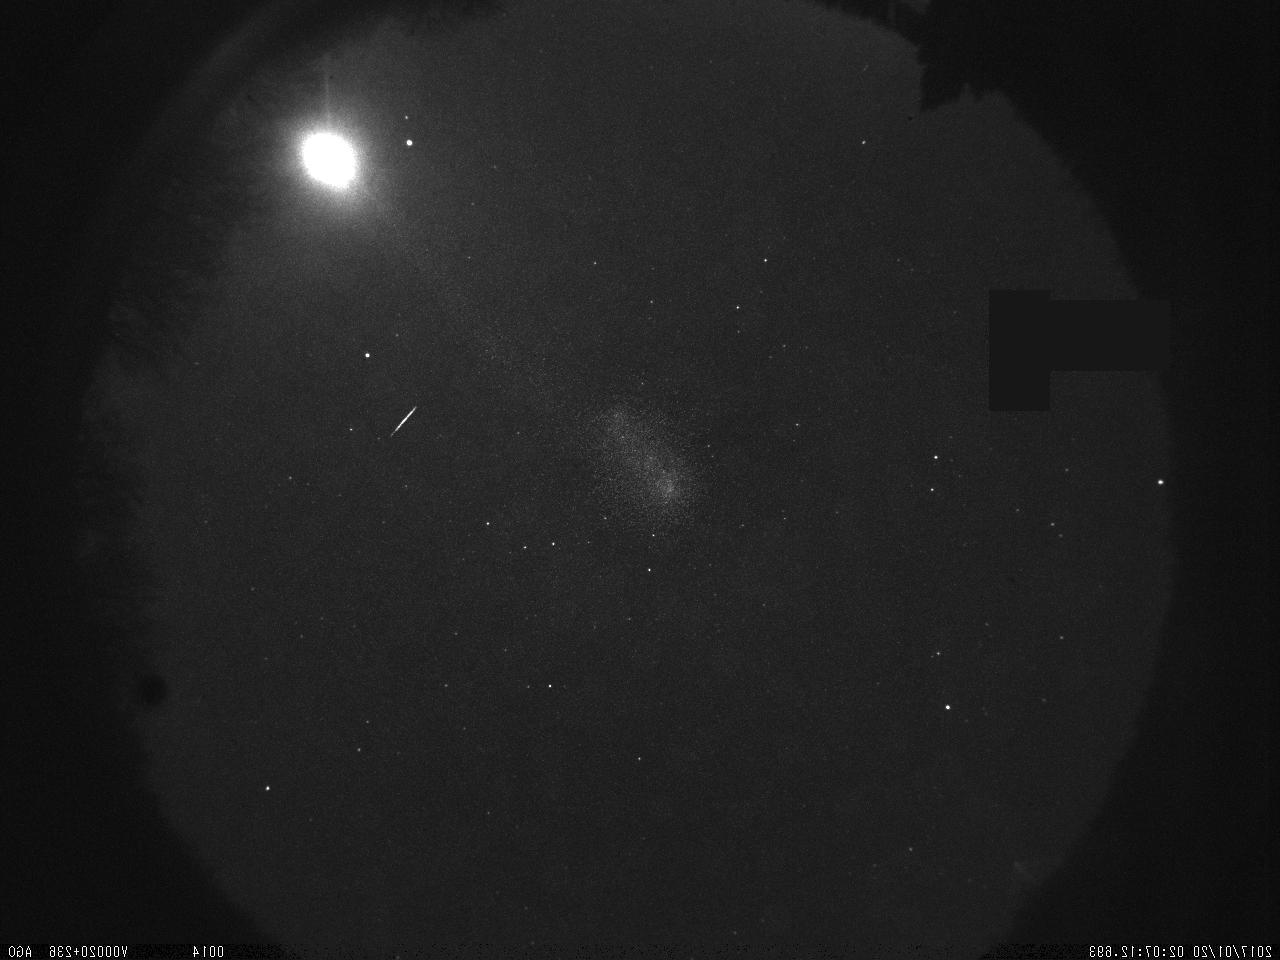meteor: (379, 394, 426, 448)
